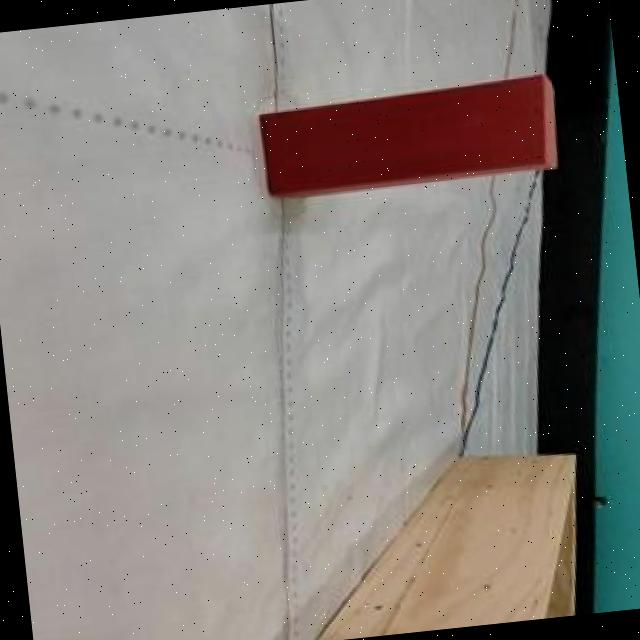redbox: (258, 70, 564, 199)
